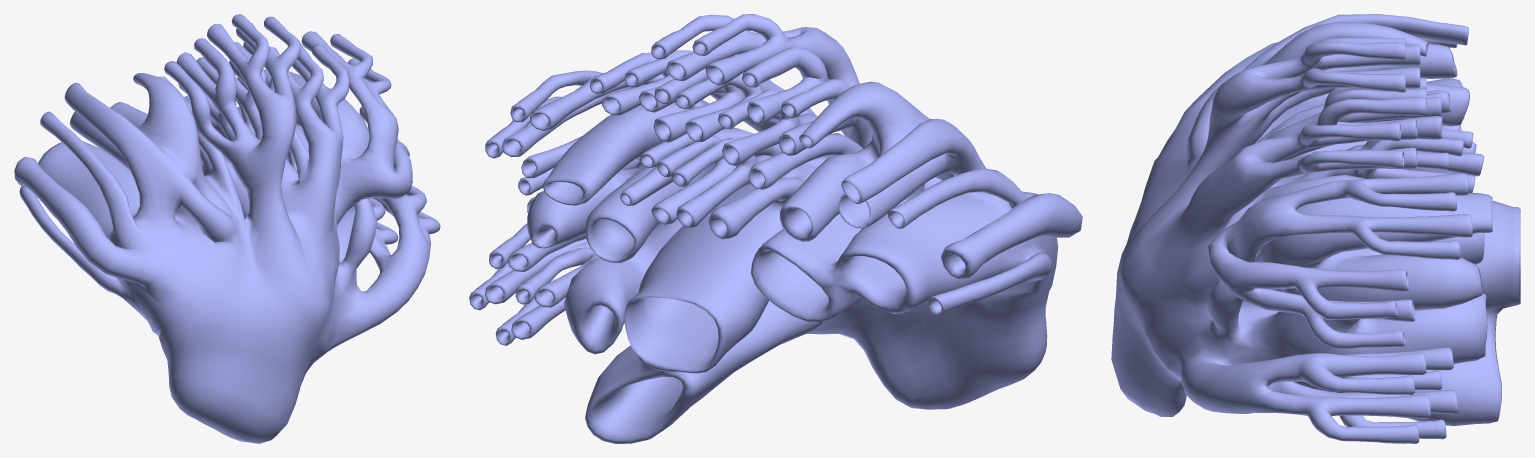
The model's file is smooth_er1.fbx.
The picture shows the model from 3 angles, left to right: view 1: azimuth 30°, elevation 25°; view 2: azimuth 150°, elevation 25°; view 3: azimuth 270°, elevation 25°; orthographic projection. The views are drawn at different scales.
Visible parts, largest first — view 1: Smooth_Endoplasmic_reticulum_1; view 2: Smooth_Endoplasmic_reticulum_1; view 3: Smooth_Endoplasmic_reticulum_1.
Boxes of the visible parts, left/top/right/bottom form: Smooth_Endoplasmic_reticulum_1: left=14, top=14, right=440, bottom=443; Smooth_Endoplasmic_reticulum_1: left=469, top=14, right=1082, bottom=443; Smooth_Endoplasmic_reticulum_1: left=1111, top=14, right=1520, bottom=443.
Bounding box in the file's own units: 1047 × 840 × 752.
